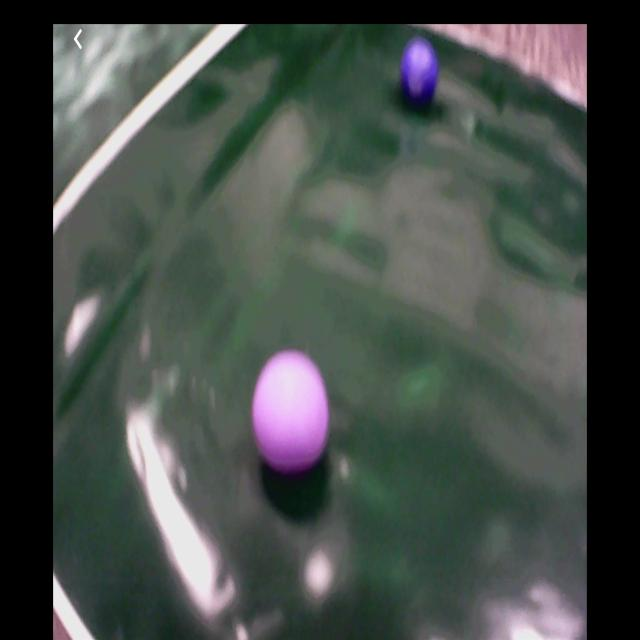ball: (252, 353, 331, 472), (402, 40, 441, 109)
